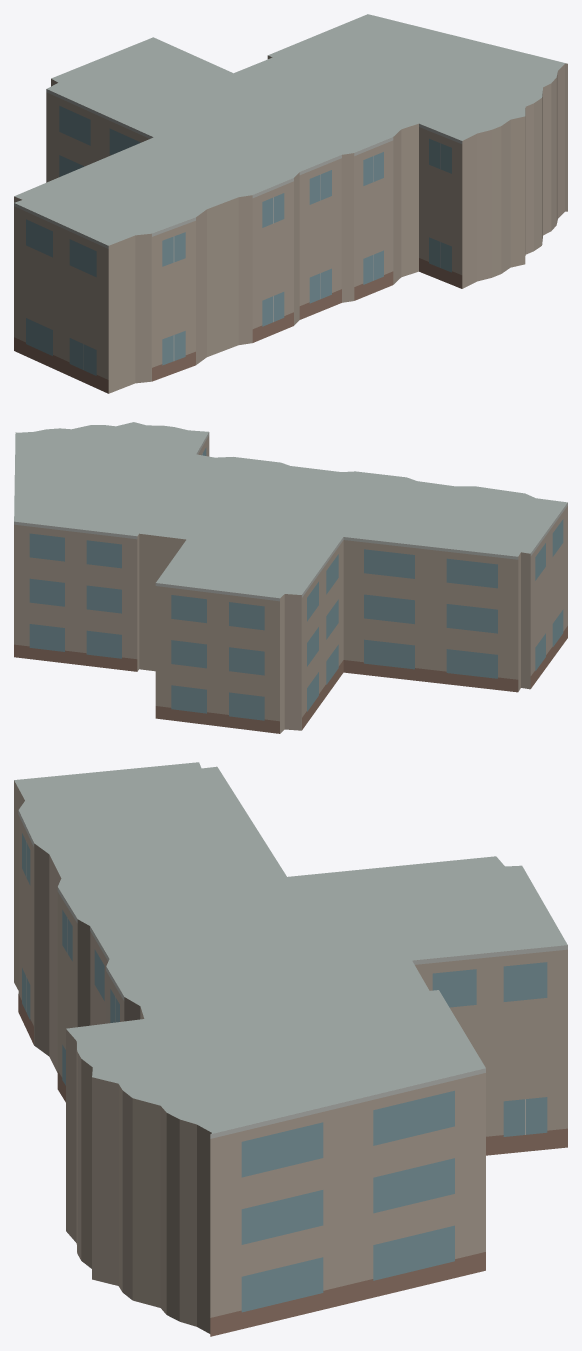
File: survey-upis-32774316.glb
The picture shows the model from 3 angles, top to bottom: view 1: azimuth 30°, elevation 25°; view 2: azimuth 150°, elevation 25°; view 3: azimuth 270°, elevation 25°; orthographic projection. The views are drawn at different scales.
Parts seen in each view (by area): view 1: survey-upis-32774316.tmp; view 2: survey-upis-32774316.tmp; view 3: survey-upis-32774316.tmp.
Boxes of the visible parts, <box> form: survey-upis-32774316.tmp: <box>14,14,567,393</box>; survey-upis-32774316.tmp: <box>14,422,567,733</box>; survey-upis-32774316.tmp: <box>14,762,567,1336</box>.
Bounding box in the file's own units: 43.02 × 10.9 × 27.05.
